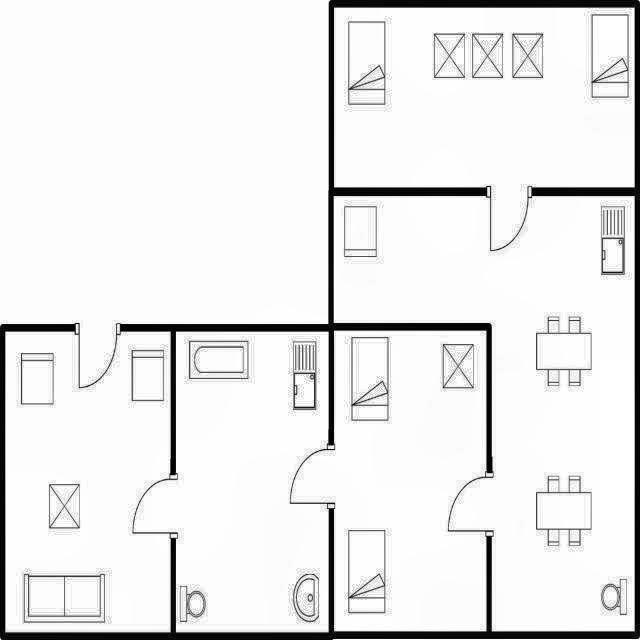room: (333, 196, 635, 631), (335, 7, 633, 188), (6, 332, 171, 632), (334, 331, 487, 630), (176, 331, 327, 631)
